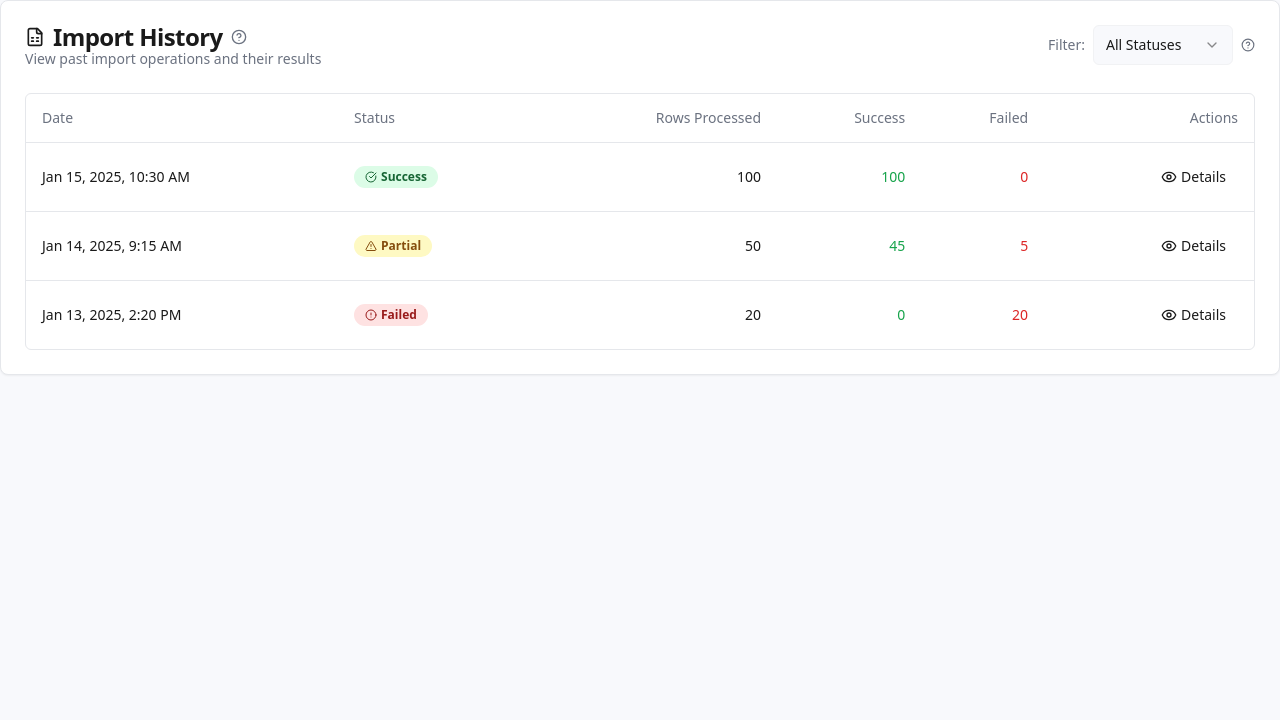
ImportHistoryCard › Details Dialog › displays errors in dialog when present
The width and height of the screenshot is (1280, 720).
Check: the text "Jan 13, 2025, 2:20 PM" is shown, box [26,280,338,348]
Click the button "Details" in the row of "Jan 13, 2025, 2:20 PM": x=1194, y=314 [1149,296,1238,332]
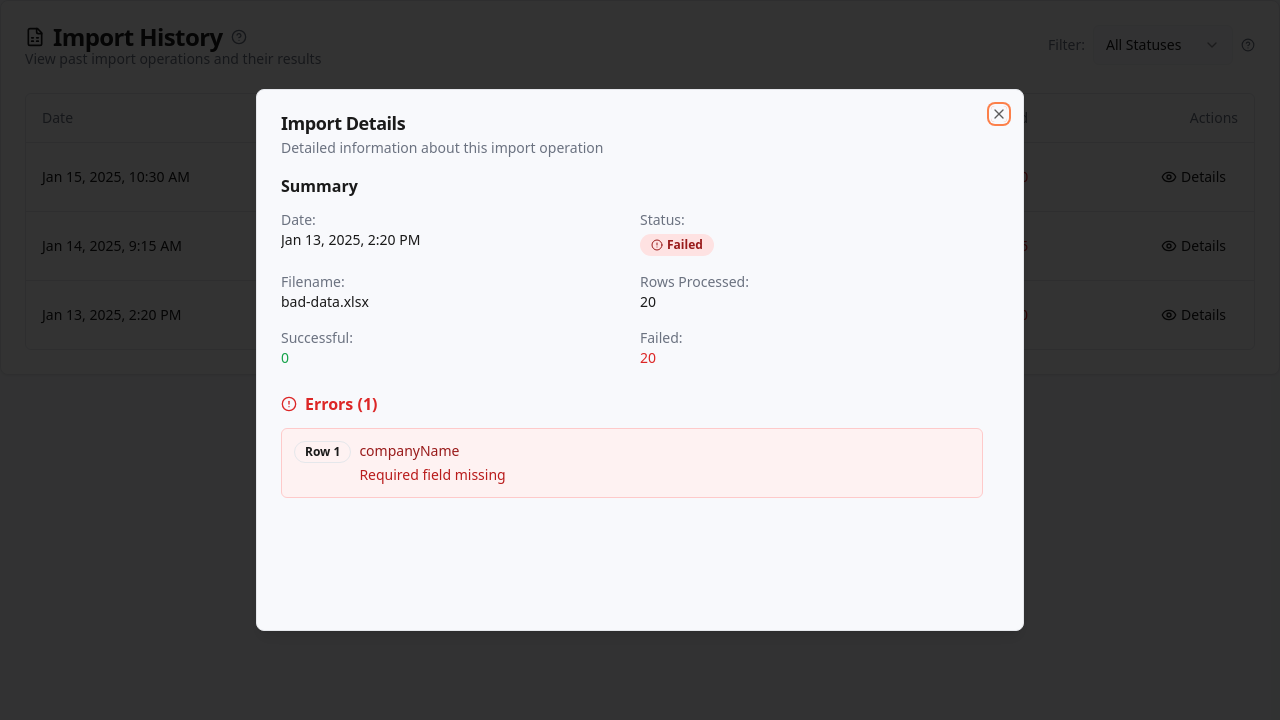
Check: the text "Required field missing" is shown, box [359,465,506,484]
